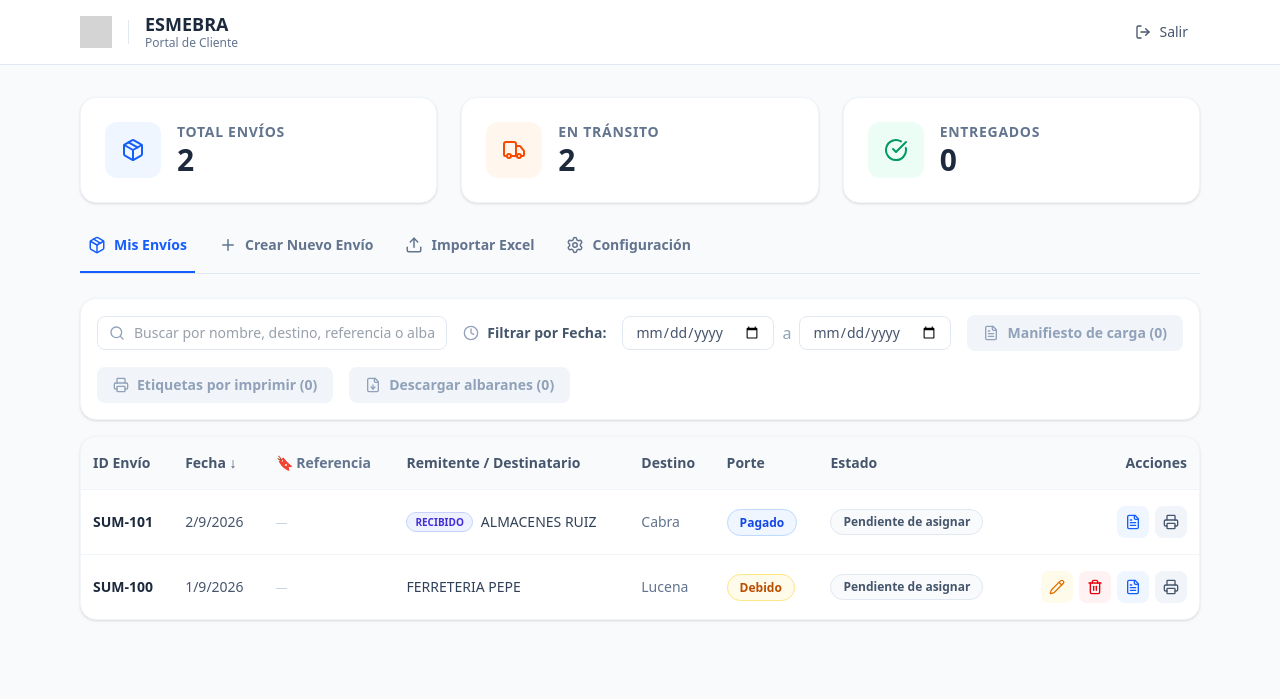
Test: ClientDashboard · agenda con fichas › las sugerencias salen de la agenda del servidor, con la marca de los que están en cartera
Click the button "Crear Nuevo Envío" at (296, 254), box [211,235,382,273]
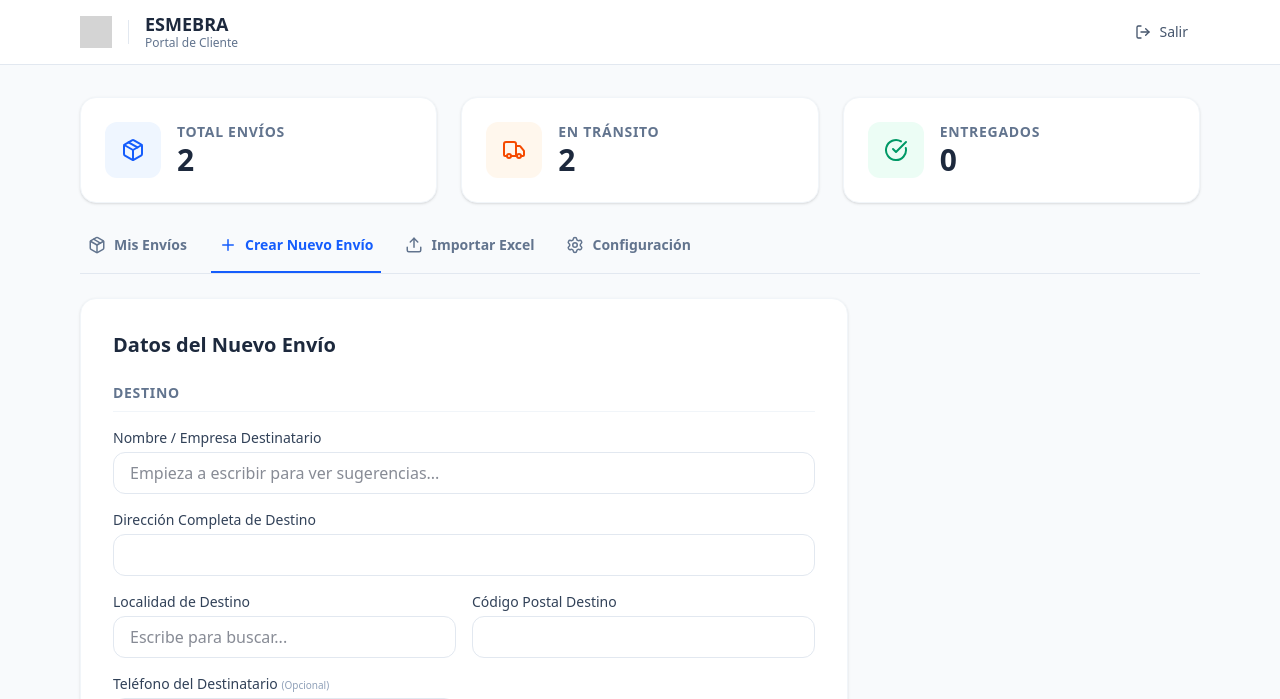
Focus the field with placeholder "Empieza a escribir para ver sugerencias..." at (464, 473), box [113,452,815,494]
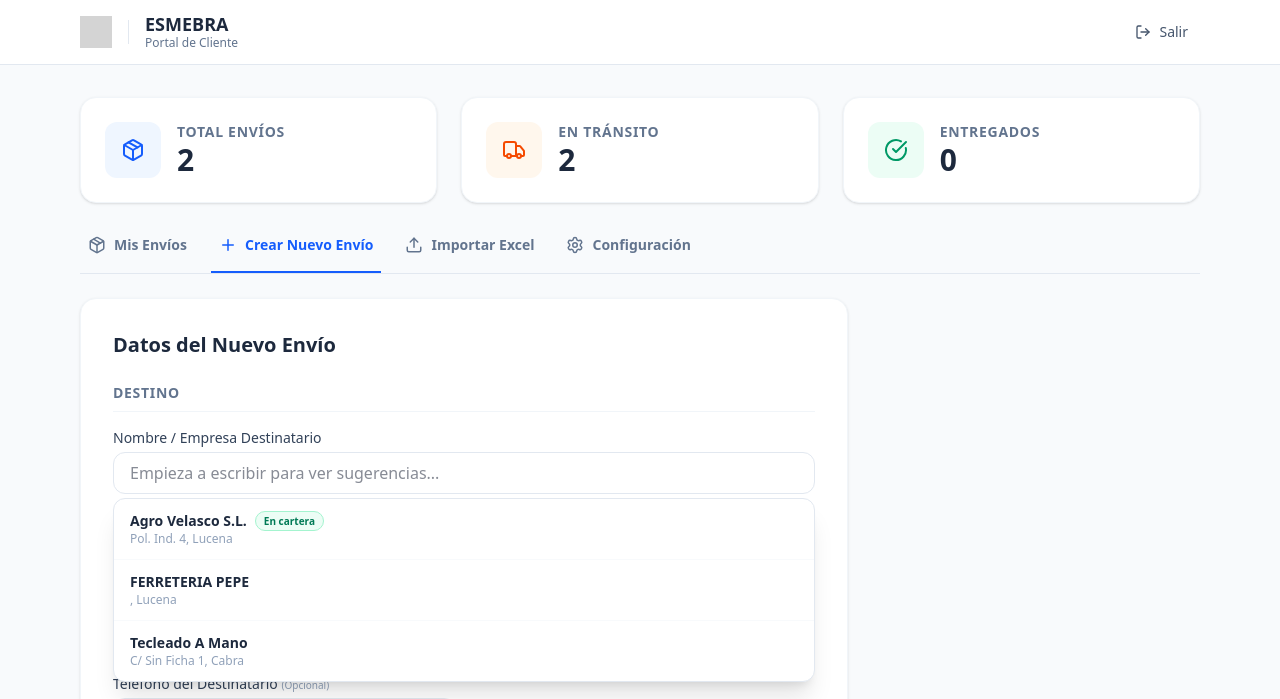
expect the text "Agro Velasco S.L." is shown: met, box [130,511,247,530]
expect the text "Tecleado A Mano" is shown: met, box [130,633,248,653]
expect the text "FERRETERIA PEPE" is shown: met, box [130,572,249,592]
